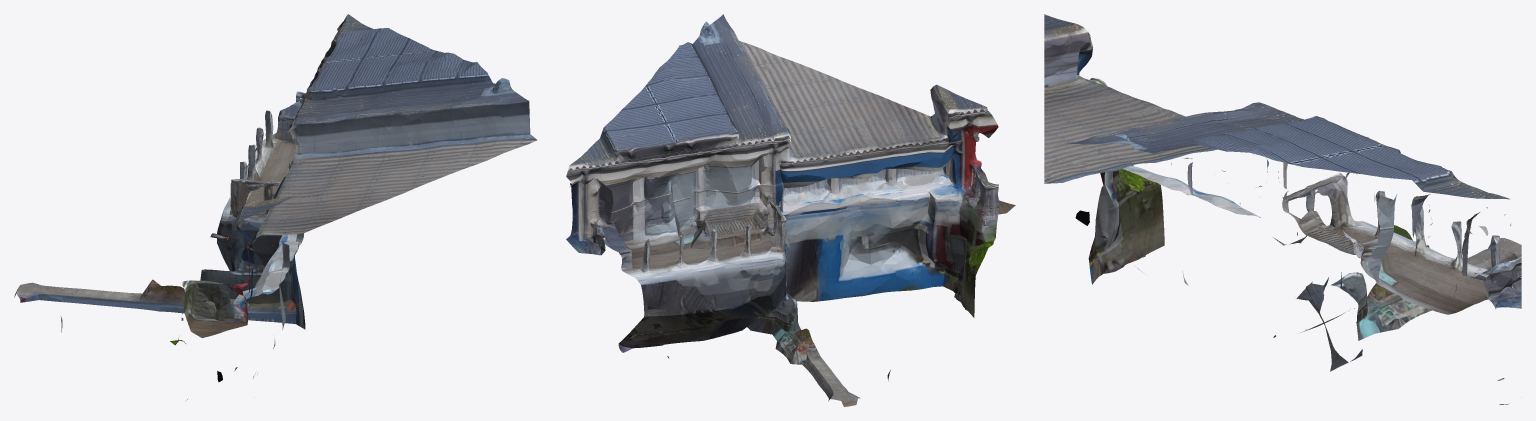
The picture shows the model from 3 angles, left to right: view 1: azimuth 30°, elevation 25°; view 2: azimuth 150°, elevation 25°; view 3: azimuth 270°, elevation 25°; orthographic projection. The views are drawn at different scales.
Bounding box in the file's own units: 8.36 × 6.02 × 8.36.
5 materials, 5 textured.
